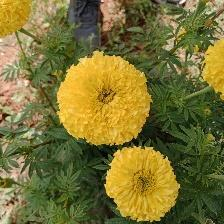marigold: (58, 54, 158, 145)
